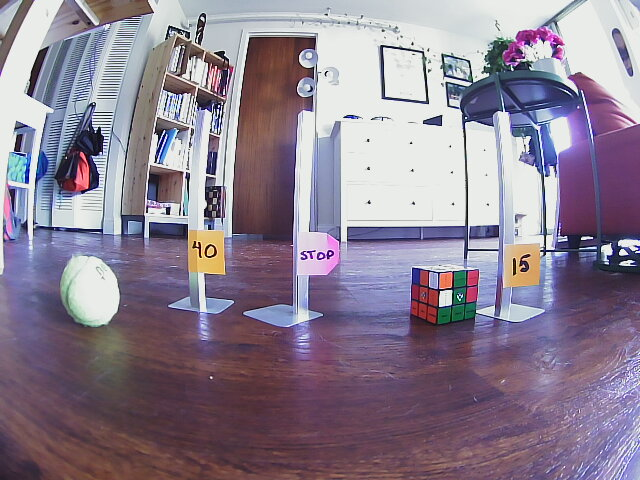15: (501, 241, 544, 290)
40: (185, 228, 228, 277)
ball: (57, 253, 124, 328)
cube: (407, 264, 482, 325)
stop: (290, 230, 343, 279)
